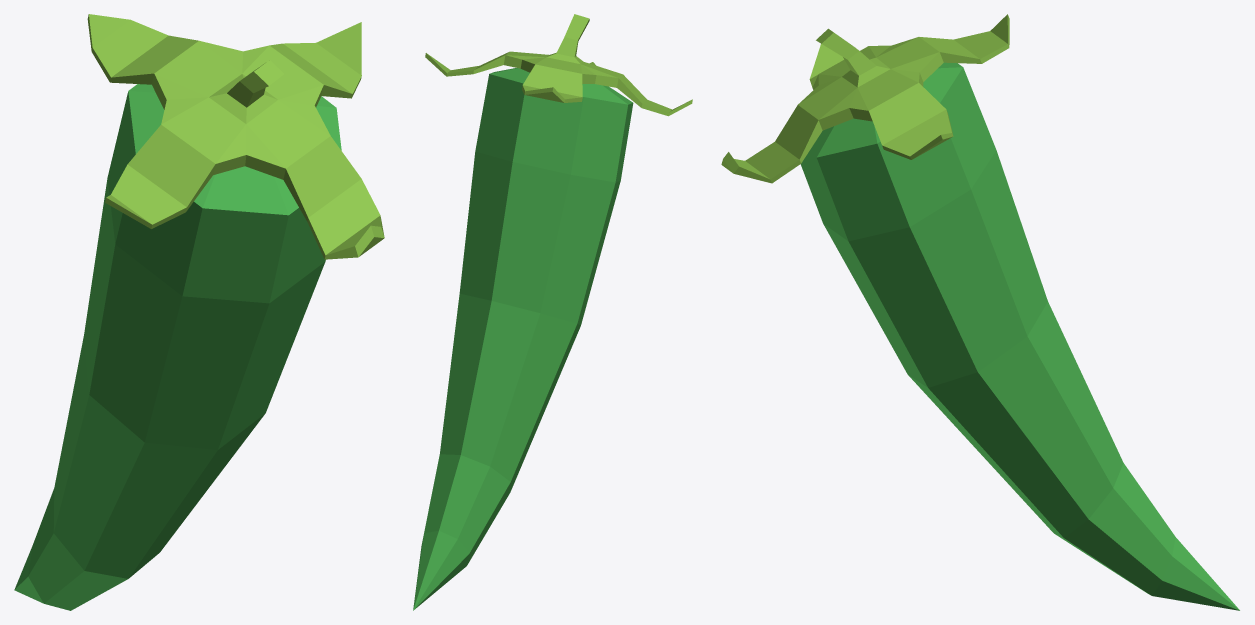
Rendered from green-pepper.glb.
3 renders of one model, left to right at view 1: azimuth 30°, elevation 25°; view 2: azimuth 150°, elevation 25°; view 3: azimuth 270°, elevation 25°, orthographic. The views are drawn at different scales.
Parts seen in each view (by area): view 1: Green_Pepper_Circle.018; view 2: Green_Pepper_Circle.018; view 3: Green_Pepper_Circle.018.
Part boxes in pixels (left/top/right/bottom): Green_Pepper_Circle.018: left=14, top=14, right=384, bottom=610; Green_Pepper_Circle.018: left=413, top=14, right=692, bottom=610; Green_Pepper_Circle.018: left=721, top=14, right=1239, bottom=610.
Size of the model in its own units: 4.7 by 9.74 by 7.89.
